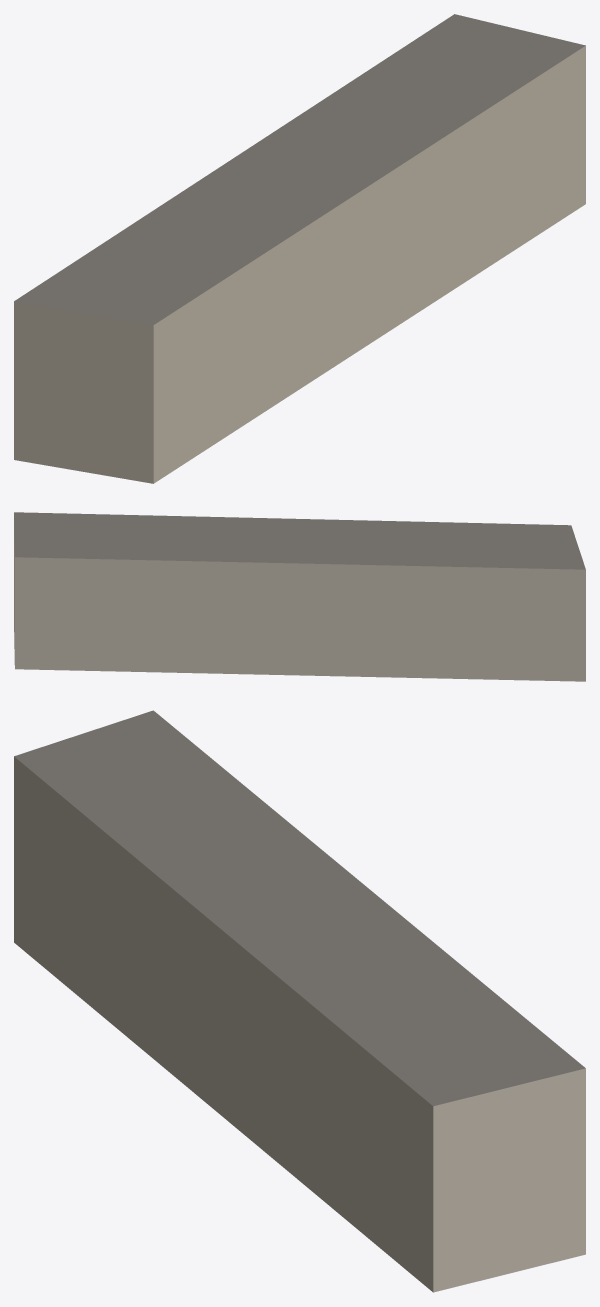
3 views of the same model, one above another, from view 1: azimuth 30°, elevation 25°; view 2: azimuth 150°, elevation 25°; view 3: azimuth 270°, elevation 25° (orthographic). The views are drawn at different scales.
Visible parts, largest first — view 1: HP-w369237844; view 2: HP-w369237844; view 3: HP-w369237844.
Part boxes in pixels (box(x1,y1,x2,y2)): HP-w369237844: box(14, 14, 585, 483); HP-w369237844: box(14, 512, 585, 681); HP-w369237844: box(14, 710, 585, 1292).
Bounding box in the file's own units: 82.07 × 18 × 50.1.
